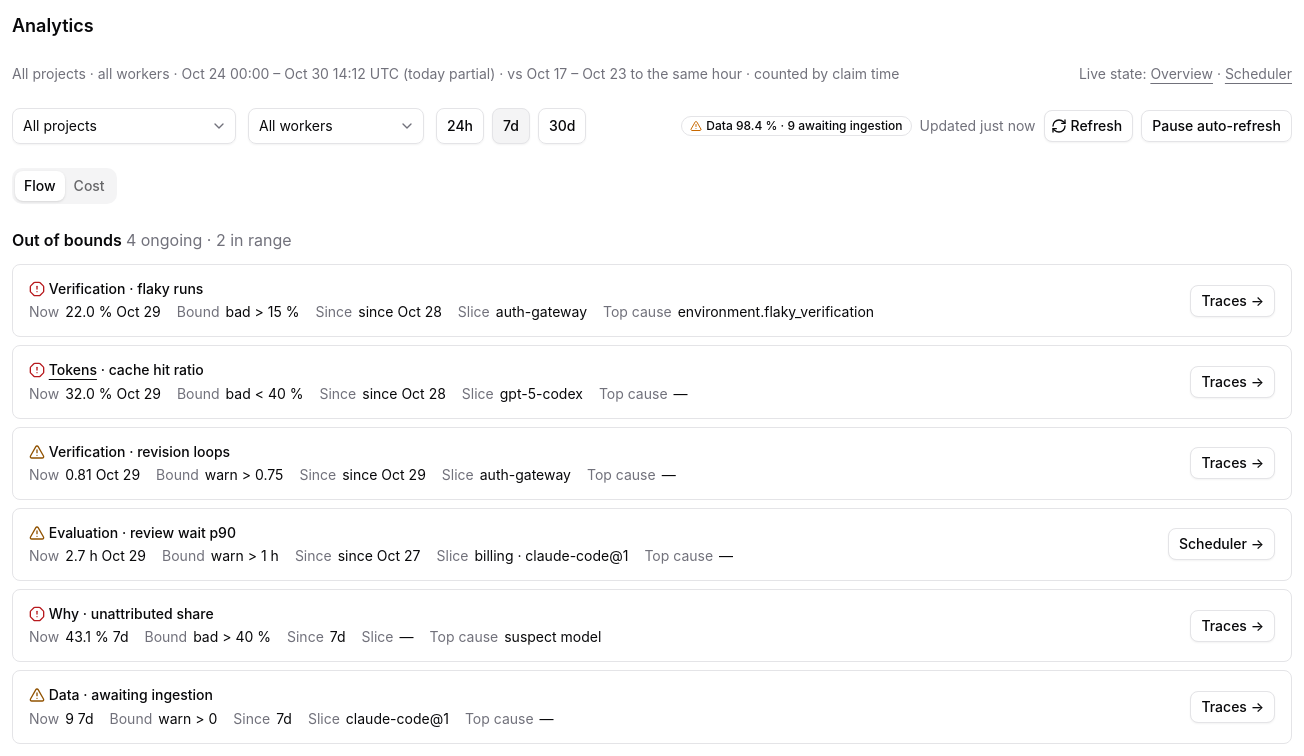
Test case: AnalyticsScreen › reads nothing new on a switch from Flow to Cost
The image size is (1304, 756).
Expected: the text "All projects · all workers · Oct 24 00:00 – Oct 30 14:12 UTC (today partial) · vs Oct 17 – Oct 23 to the same hour · cou" is shown, [12,65,899,82]
Click the tab "Cost": (89, 186) [65,171,114,201]
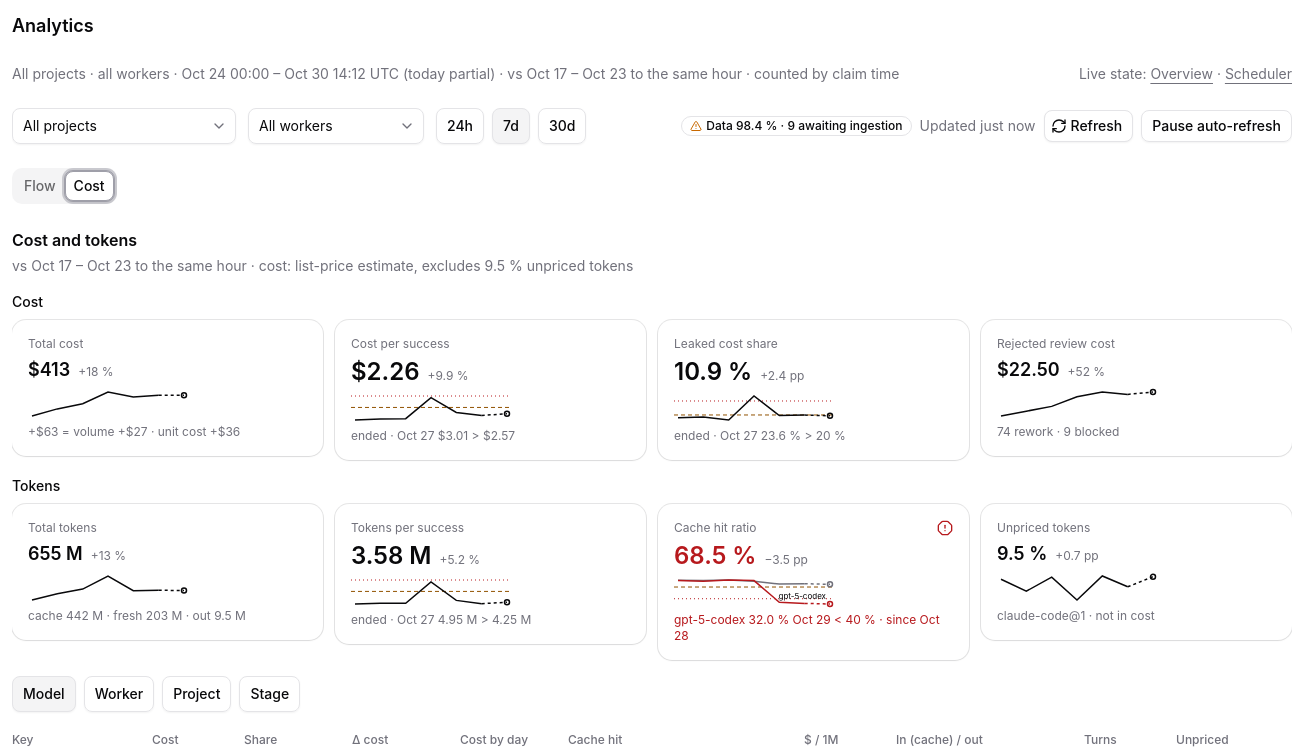
Result: the heading "Cost and tokens" is shown at [12,230,137,250]
